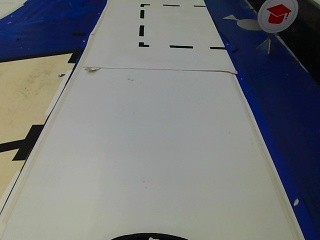school: (256, 0, 297, 35)
